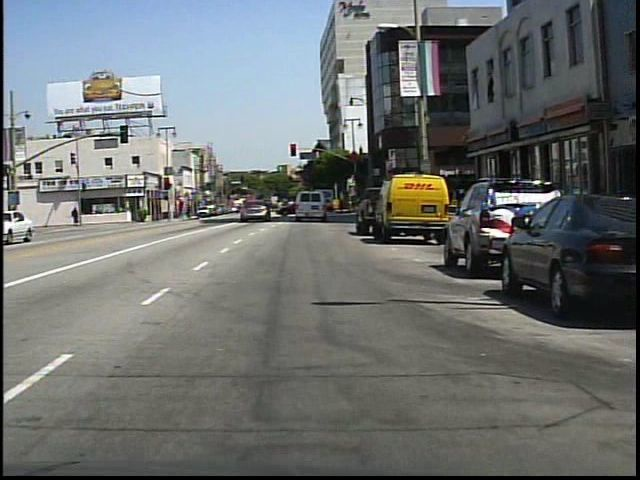person: (254, 193, 272, 223), (72, 205, 80, 226)
